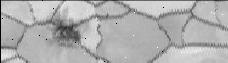good_void: (45, 8, 82, 50)
